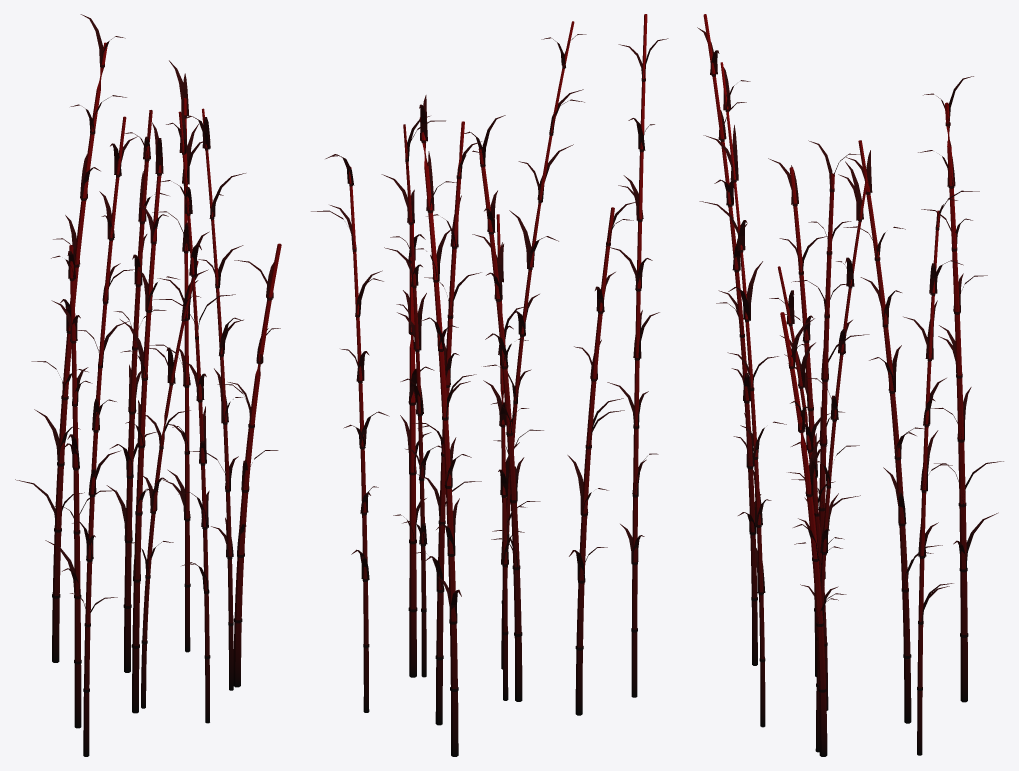
Rendered from bamboo_stand_v1.fbx.
3 renders of one model, left to right at view 1: azimuth 30°, elevation 25°; view 2: azimuth 150°, elevation 25°; view 3: azimuth 270°, elevation 25°, orthographic.
Parts seen in each view (by area): view 1: bamboo_stand_v1; view 2: bamboo_stand_v1; view 3: bamboo_stand_v1.
Boxes of the visible parts, box(x1,y1,x2,y2) form: bamboo_stand_v1: box(15, 14, 281, 756); bamboo_stand_v1: box(311, 14, 668, 756); bamboo_stand_v1: box(697, 14, 1003, 756).
Size of the model in its own units: 169 by 447 by 190.
